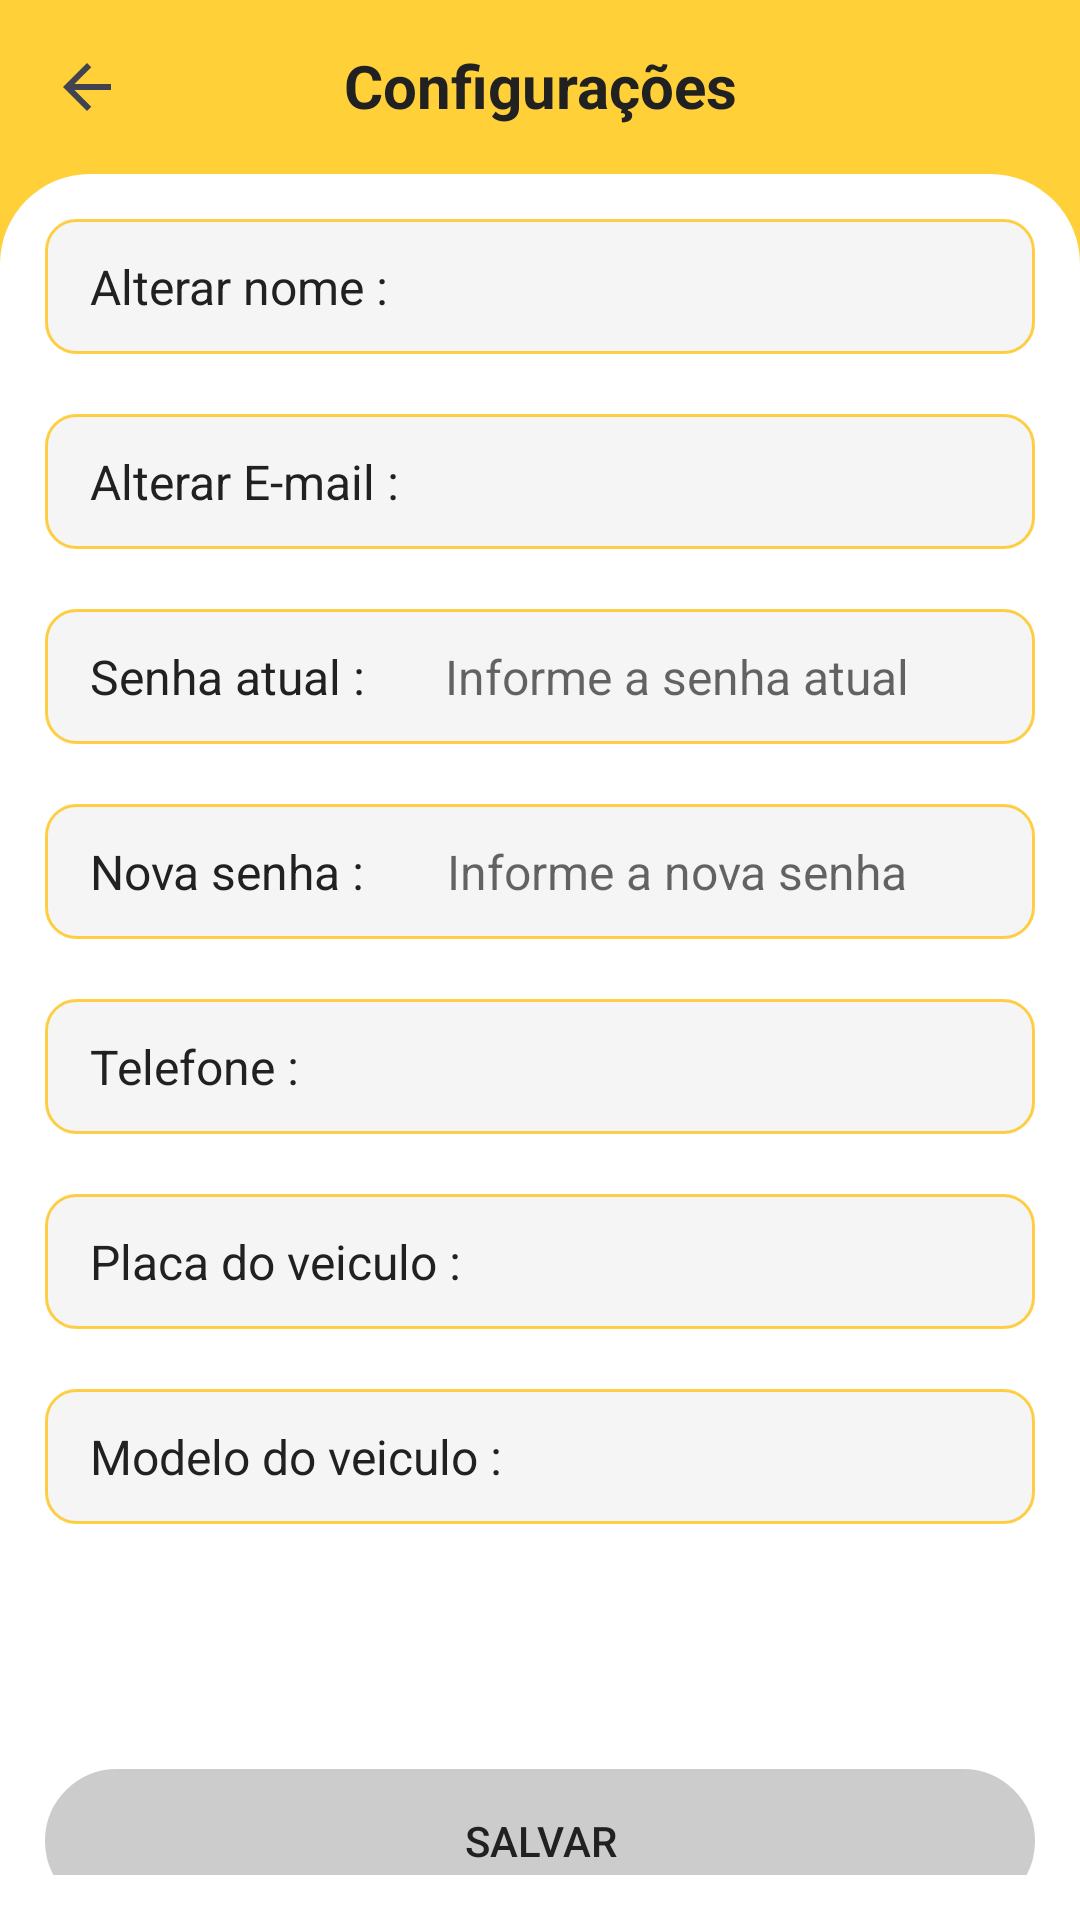

Named icons in this screenshot (1080 x 1920) and their centers, (x=x, y=y):
back: (x=87, y=87)
